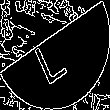L_NW: (34, 25, 76, 85)
